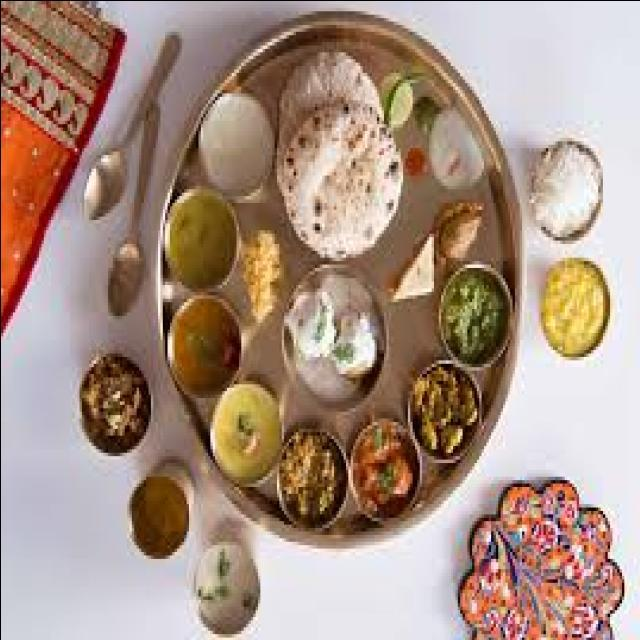curd: (283, 267, 389, 407), (191, 83, 280, 195)
pickle: (123, 465, 196, 559), (73, 359, 147, 447), (423, 107, 486, 189), (74, 142, 136, 225), (99, 236, 150, 318)
raita: (282, 268, 388, 406)
roti: (276, 58, 401, 267)
sambar-rasam: (159, 185, 240, 302), (164, 291, 247, 404)
sweet: (342, 417, 422, 519)
veg-fry: (342, 415, 424, 519)
